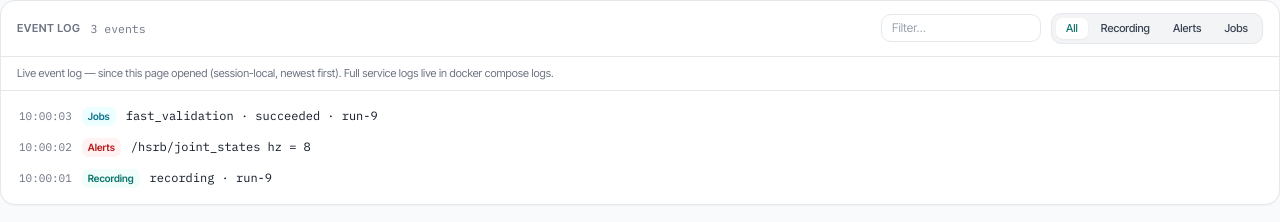
it: the text filter matches the summary line
Type "run-9" into the field with test id "logs-filter".
click(961, 28); type("run-9")  # box [881, 14, 1041, 42]
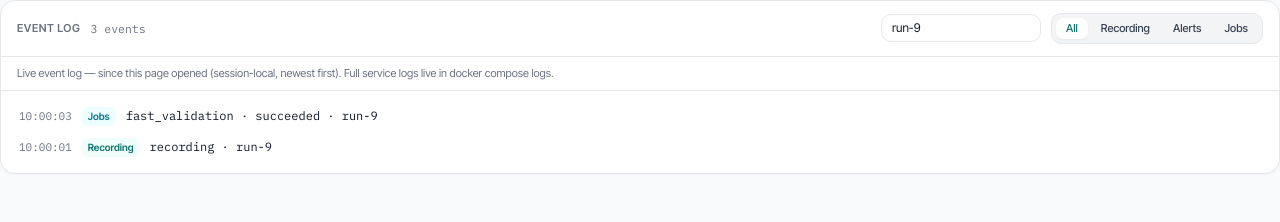
Result: the number of elements with test id "logs-row" is 2 at [19, 107, 378, 126]; [19, 138, 272, 157]
Replace the text in the field with test id "logs-filter" with "zzz" at (961, 28), box [881, 14, 1041, 42]
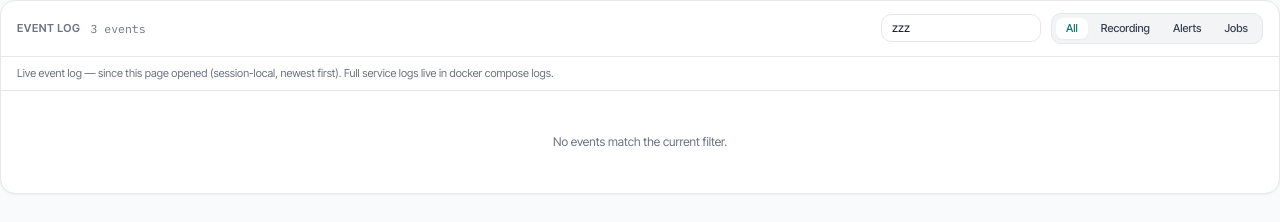
Result: the text "No events match the current filter." is shown at [553, 134, 727, 149]
